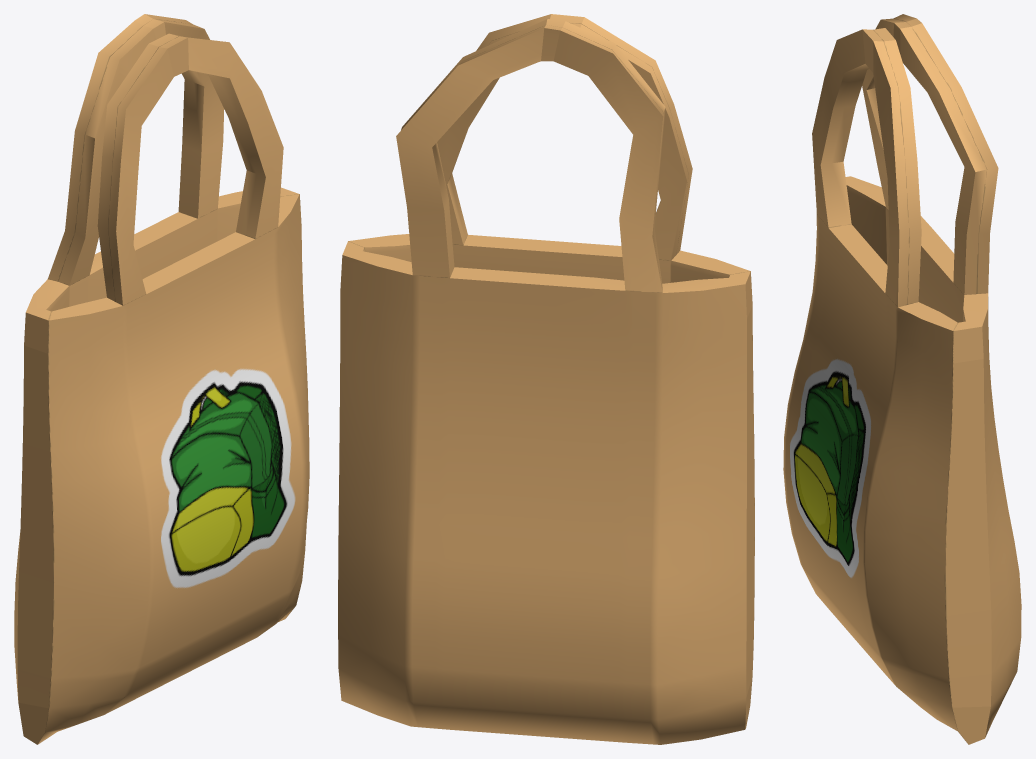
Rendered from Totebag.fbx.
3 renders of one model, left to right at view 1: azimuth 30°, elevation 25°; view 2: azimuth 150°, elevation 25°; view 3: azimuth 270°, elevation 25°, orthographic. The views are drawn at different scales.
Visible parts, largest first — view 1: Totebag; view 2: Totebag; view 3: Totebag.
Boxes of the visible parts, box(x1,y1,x2,y2) form: Totebag: box(14, 14, 309, 744); Totebag: box(338, 14, 754, 744); Totebag: box(783, 14, 1021, 744).
Bounding box in the file's own units: 6.19 × 11.71 × 3.91.
1 material, 1 textured.
